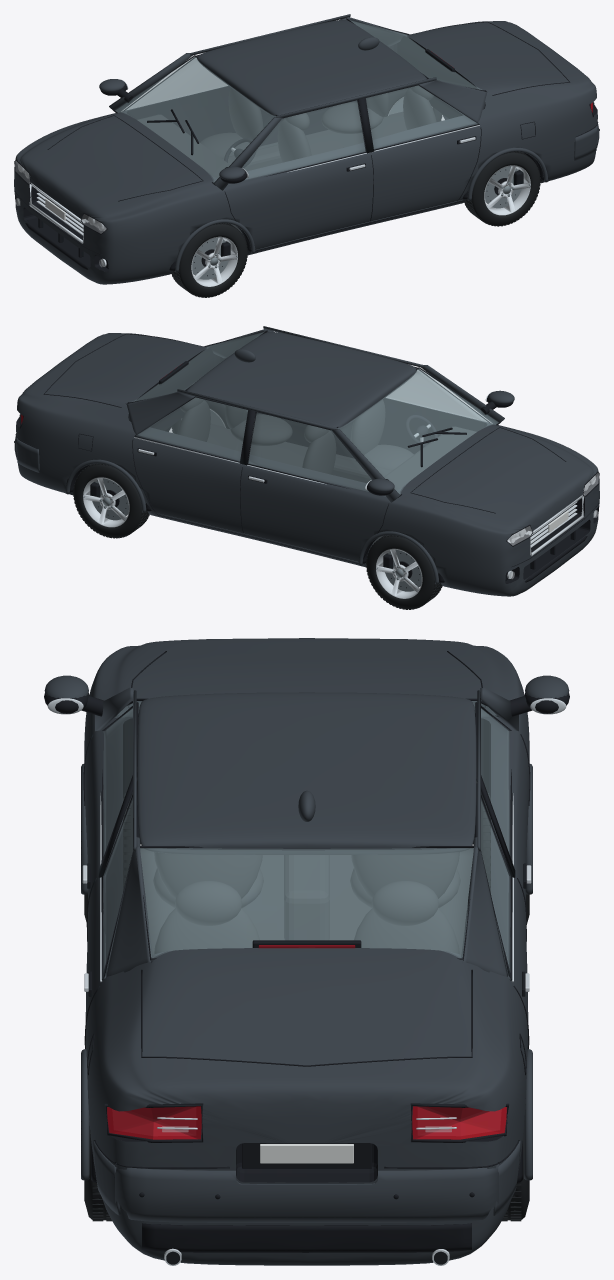
File: sedan_detailed.glb
3 views of the same model, one above another, from view 1: azimuth 30°, elevation 25°; view 2: azimuth 150°, elevation 25°; view 3: azimuth 270°, elevation 25° (orthographic). The views are drawn at different scales.
Parts seen in each view (by area): view 1: Aerodynamic mirror painted cap, Front side door glass, Aerodynamic mirror lower housing, Adjustable headrest, 107 reused Sculpted_tyre, 107 reused Alloy_five_spoke_rim, 107 reused Center_cap, Clear reversing lens insert; view 2: Aerodynamic mirror painted cap, Front side door glass, Aerodynamic mirror lower housing, Adjustable headrest, 107 reused Sculpted_tyre, 107 reused Alloy_five_spoke_rim, 107 reused Center_cap, Clear reversing lens insert; view 3: Aerodynamic mirror painted cap, Front side door glass, Adjustable headrest, Aerodynamic mirror lower housing, Flush corner wrapping ruby lamp lens, 107 reused Sculpted_tyre, 107 reused Alloy_five_spoke_rim, Front license plate.
Boxes of the visible parts, x1,y1,x2,y2 form: Aerodynamic mirror painted cap: (14,14,599,284); Front side door glass: (115,20,481,184); Aerodynamic mirror lower housing: (14,18,599,276); Adjustable headrest: (137,85,436,240); 107 reused Sculpted_tyre: (171,88,540,297); 107 reused Alloy_five_spoke_rim: (17,79,530,286); 107 reused Center_cap: (192,98,530,279); Clear reversing lens insert: (15,161,106,266); Aerodynamic mirror painted cap: (14,326,599,596); Front side door glass: (132,332,498,496); Aerodynamic mirror lower housing: (14,330,599,588); Adjustable headrest: (177,397,476,552); 107 reused Sculpted_tyre: (73,400,442,609); 107 reused Alloy_five_spoke_rim: (83,391,596,598); 107 reused Center_cap: (83,410,421,591); Clear reversing lens insert: (507,473,598,578); Aerodynamic mirror painted cap: (44,638,569,1265); Front side door glass: (103,701,510,971); Adjustable headrest: (136,780,477,954); Aerodynamic mirror lower housing: (44,651,569,1264); Flush corner wrapping ruby lamp lens: (107,945,506,1139); 107 reused Sculpted_tyre: (84,793,529,1221); 107 reused Alloy_five_spoke_rim: (47,698,566,1265); Front license plate: (260,1144,353,1163).
Bounding box in the file's own units: 4.84 × 1.54 × 2.18.
10 materials, 10 textured.
